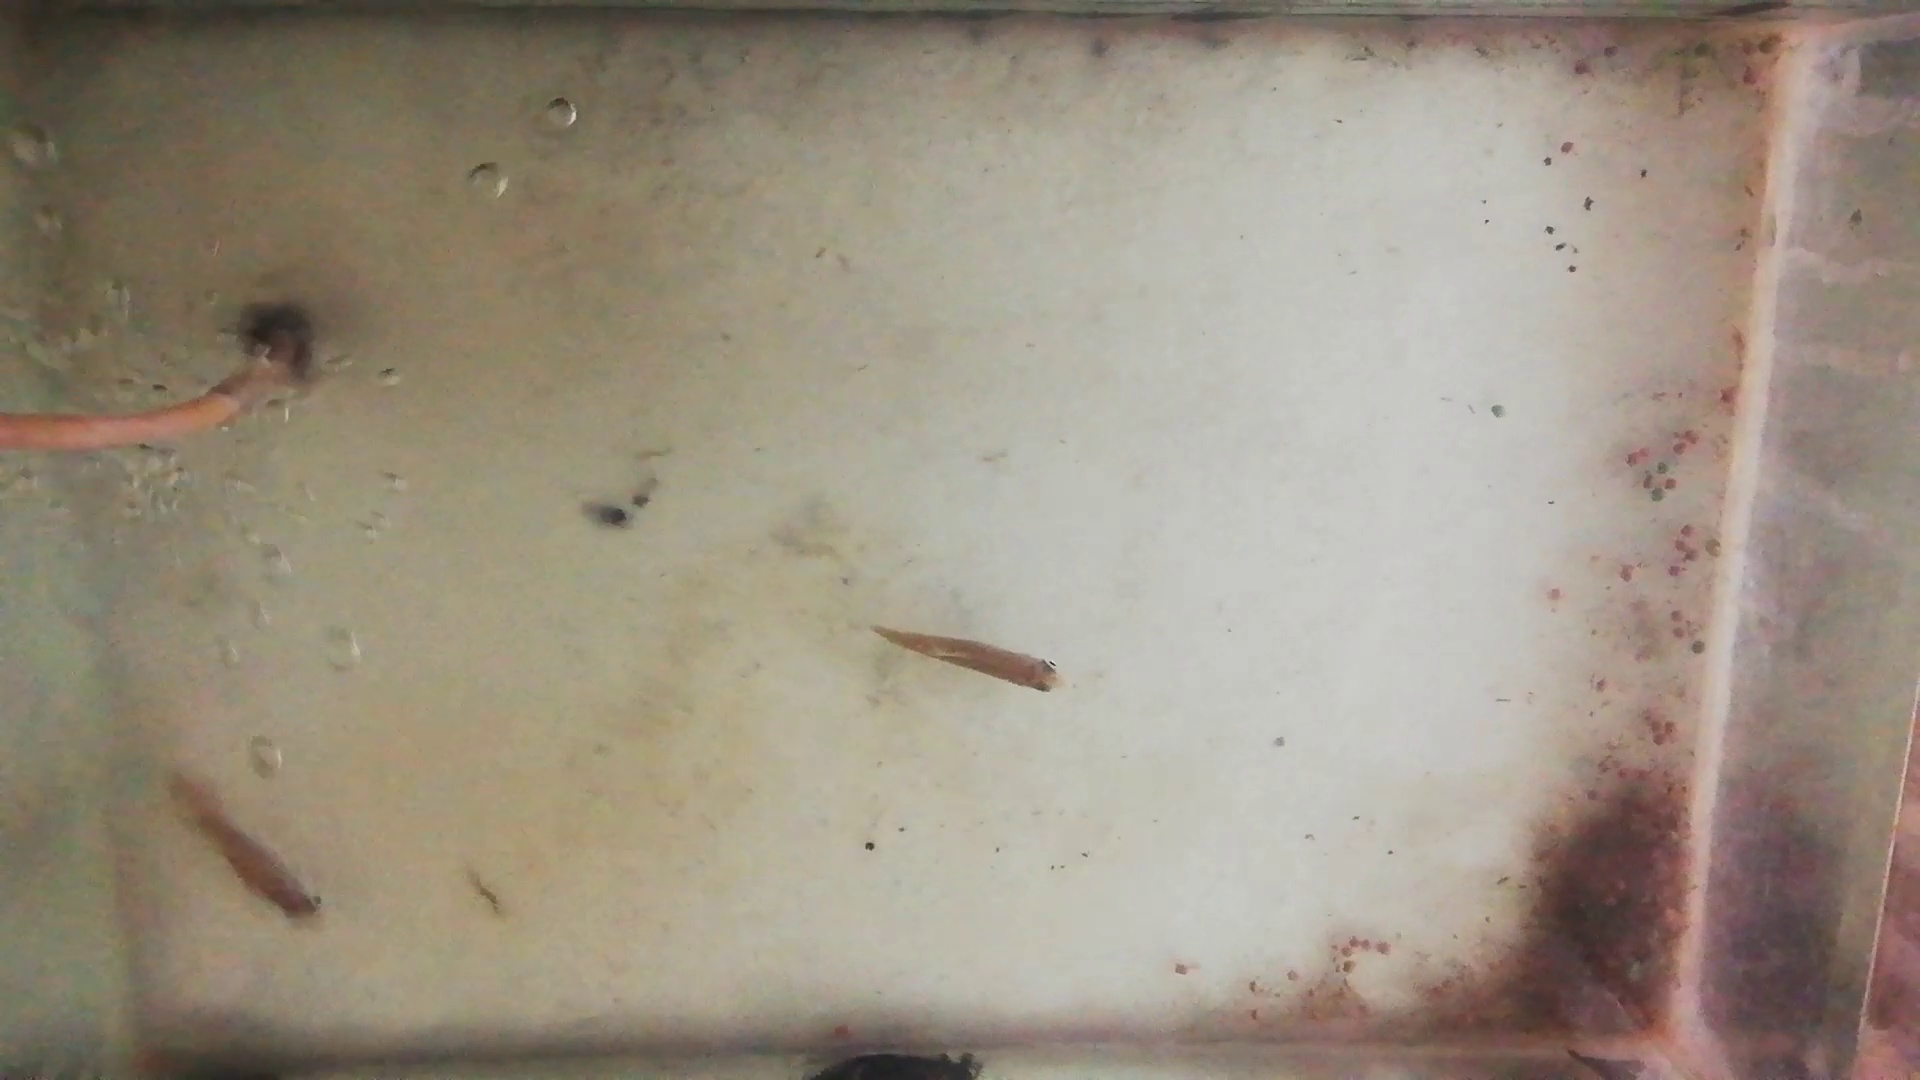fish: (164, 767, 322, 930), (870, 622, 1062, 698)
